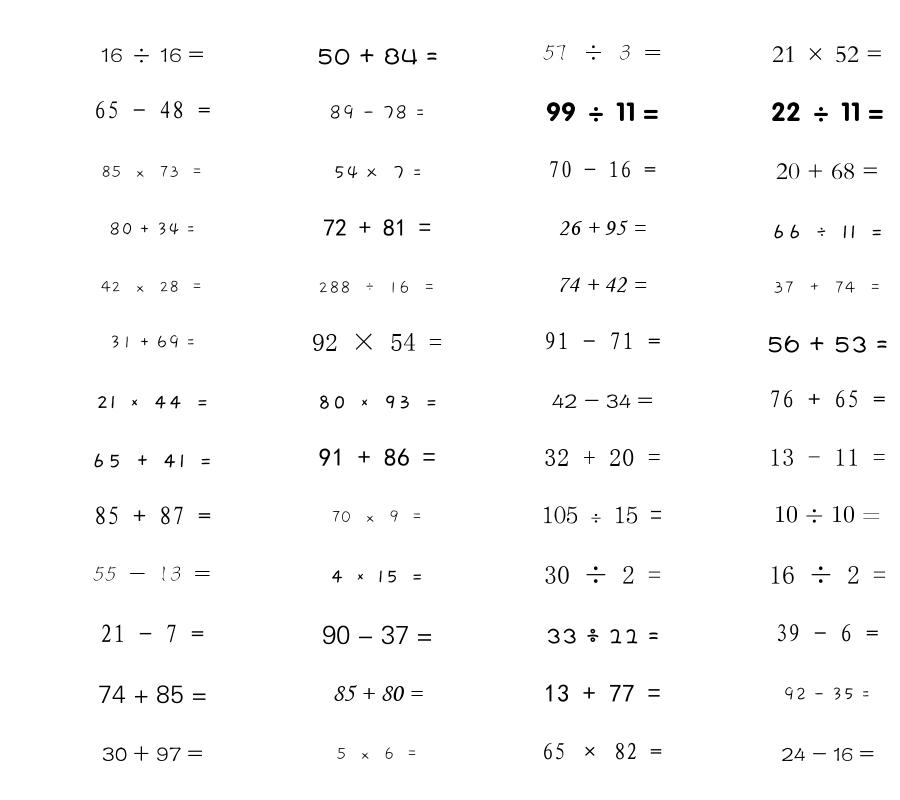MQ: (312, 333, 442, 351), (546, 102, 659, 122), (771, 102, 884, 122), (94, 506, 211, 525), (769, 565, 886, 584), (322, 625, 433, 645), (767, 335, 888, 353), (542, 506, 662, 524), (542, 742, 662, 760), (94, 101, 211, 119), (544, 332, 661, 350), (769, 390, 886, 408), (319, 448, 436, 466), (769, 448, 886, 466), (544, 566, 661, 584), (544, 684, 661, 702), (98, 685, 207, 704), (317, 48, 438, 65), (543, 44, 662, 61), (544, 449, 661, 466), (100, 624, 204, 643), (548, 160, 656, 178), (774, 505, 881, 523), (93, 566, 211, 582), (772, 46, 883, 63), (775, 624, 879, 642), (323, 219, 431, 236), (91, 453, 213, 468), (546, 628, 659, 644), (776, 163, 879, 180), (102, 745, 203, 762), (771, 224, 884, 239), (317, 395, 438, 409), (318, 280, 436, 294), (96, 395, 209, 409), (101, 48, 204, 63), (329, 104, 425, 120), (552, 394, 653, 409), (332, 685, 423, 701), (557, 277, 647, 293), (773, 281, 882, 294), (558, 220, 646, 236), (781, 747, 874, 762), (333, 165, 422, 180), (101, 165, 203, 178), (101, 280, 203, 293), (783, 687, 871, 701), (330, 570, 424, 583), (109, 222, 196, 236), (109, 335, 196, 349), (331, 510, 423, 523), (336, 747, 418, 760)
